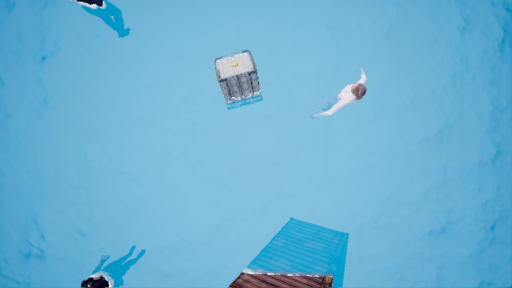person: (314, 63, 377, 126), (84, 240, 148, 288)
